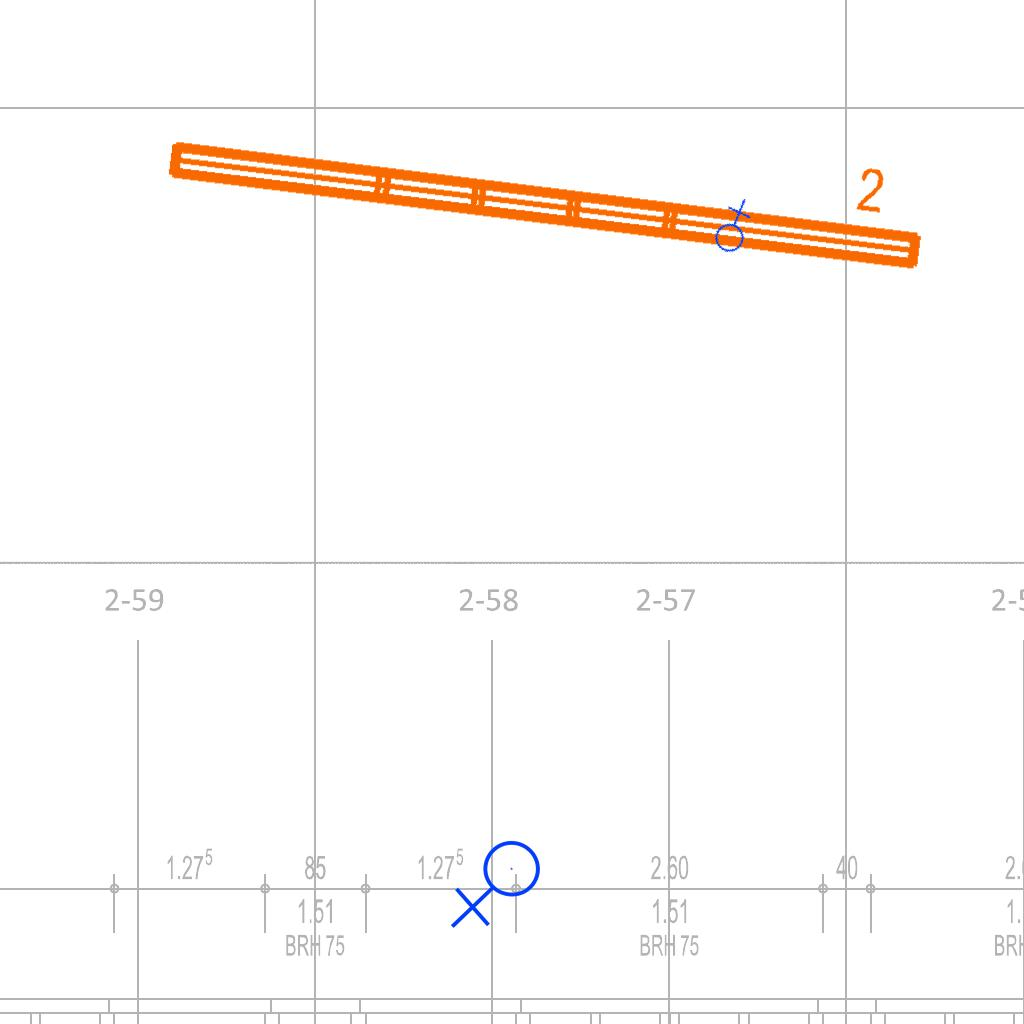Ambulanz_Pendelleuchte_LED: (156, 77, 938, 283)
Elektroanschluss_allgemein_230V_Geraeteanschlussdose_230V: (450, 839, 549, 933), (699, 196, 764, 259)
